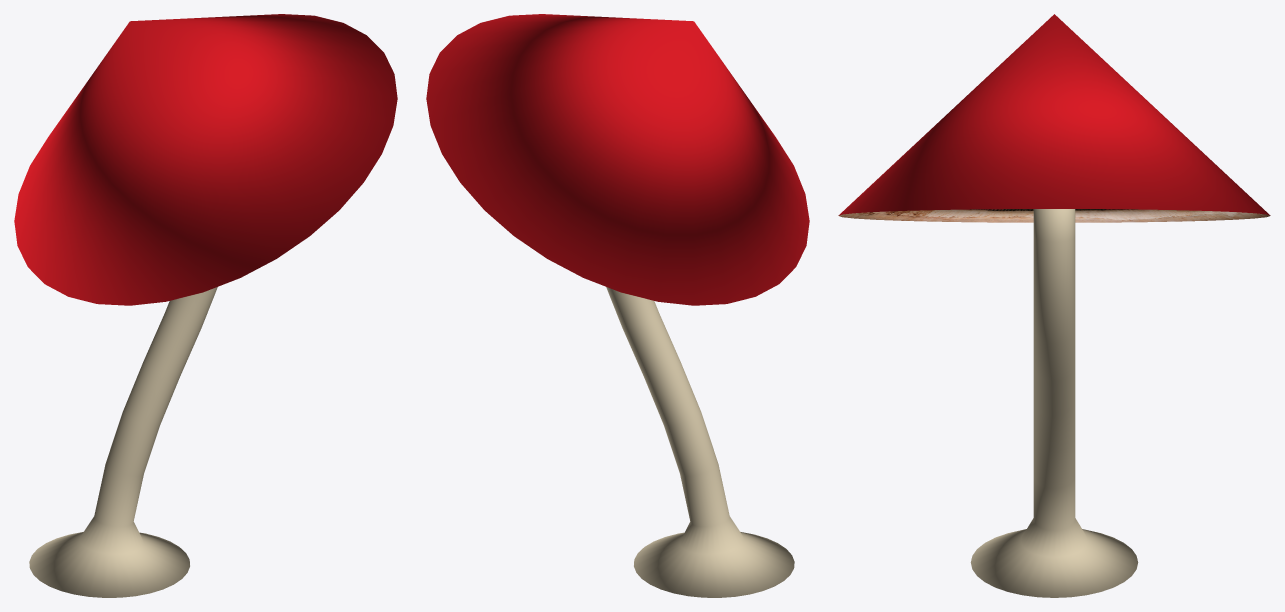
File: champi22.fbx
3 views of the same model, side by side, from view 1: azimuth 30°, elevation 25°; view 2: azimuth 150°, elevation 25°; view 3: azimuth 270°, elevation 25° (orthographic). The views are drawn at different scales.
Visible parts, largest first — view 1: Cylinder_001; view 2: Cylinder_001; view 3: Cylinder_001.
Part boxes in pixels (x1,y1,x2,y2): Cylinder_001: (14,14,397,597); Cylinder_001: (426,14,809,597); Cylinder_001: (838,14,1270,597).
Size of the model in its own units: 93.69 by 147 by 103.
